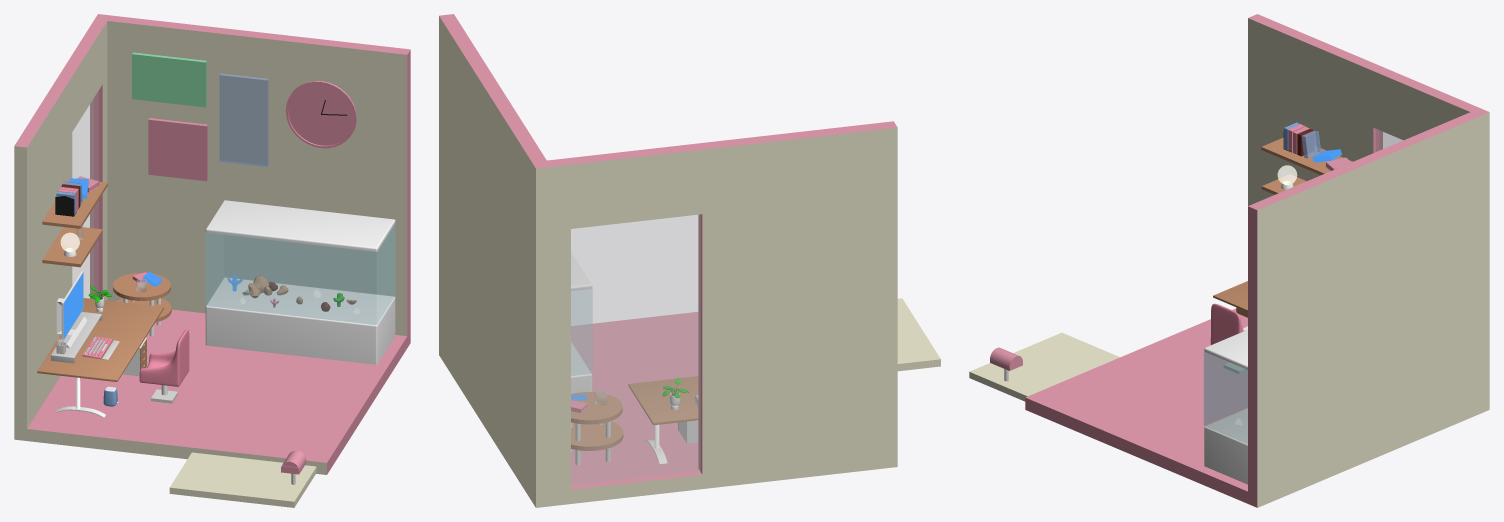
3 views of the same model, side by side, from view 1: azimuth 30°, elevation 25°; view 2: azimuth 150°, elevation 25°; view 3: azimuth 270°, elevation 25° (orthographic). The views are drawn at different scales.
Parts seen in each view (by area): view 1: backup, 立方体.023, 立方体.024, 立方体.030, head_TB, 立方体.002, 柱体.005, 立方体, 立方体.004, 平面, 立方体.021, 立方体.010 (+5 smaller); view 2: backup, 平面, head_TB, 立方体.030, 立方体.024, 圆环.009, 立方体.023, 圆环.010; view 3: backup, 立方体.030, 立方体.023, 立方体.024, 立方体.021, 立方体.011, head_TB.
Part boxes in pixels (left/top/right/bottom): backup: left=14, top=14, right=410, bottom=474; 立方体.023: left=205, top=200, right=395, bottom=364; 立方体.024: left=205, top=223, right=395, bottom=324; 立方体.030: left=169, top=452, right=316, bottom=507; head_TB: left=37, top=298, right=163, bottom=381; 立方体.002: left=219, top=73, right=268, bottom=166; 柱体.005: left=285, top=81, right=356, bottom=148; 立方体: left=132, top=52, right=206, bottom=107; 立方体.004: left=148, top=118, right=207, bottom=181; 平面: left=72, top=91, right=98, bottom=298; 立方体.021: left=139, top=329, right=189, bottom=386; 立方体.010: left=42, top=227, right=102, bottom=267; backup: left=439, top=14, right=897, bottom=507; 平面: left=571, top=214, right=700, bottom=486; head_TB: left=628, top=376, right=698, bottom=424; 立方体.030: left=897, top=298, right=940, bottom=371; 立方体.024: left=571, top=289, right=592, bottom=375; 圆环.009: left=571, top=392, right=622, bottom=424; 立方体.023: left=571, top=252, right=592, bottom=393; 圆环.010: left=571, top=421, right=623, bottom=450; backup: left=1025, top=14, right=1489, bottom=507; 立方体.030: left=969, top=332, right=1119, bottom=401; 立方体.023: left=1204, top=330, right=1247, bottom=484; 立方体.024: left=1204, top=351, right=1247, bottom=444; 立方体.021: left=1210, top=303, right=1243, bottom=344; 立方体.011: left=1261, top=137, right=1352, bottom=174; head_TB: left=1213, top=281, right=1247, bottom=311.
Bounding box in the file's own units: 46.81 × 33.1 × 52.45.
